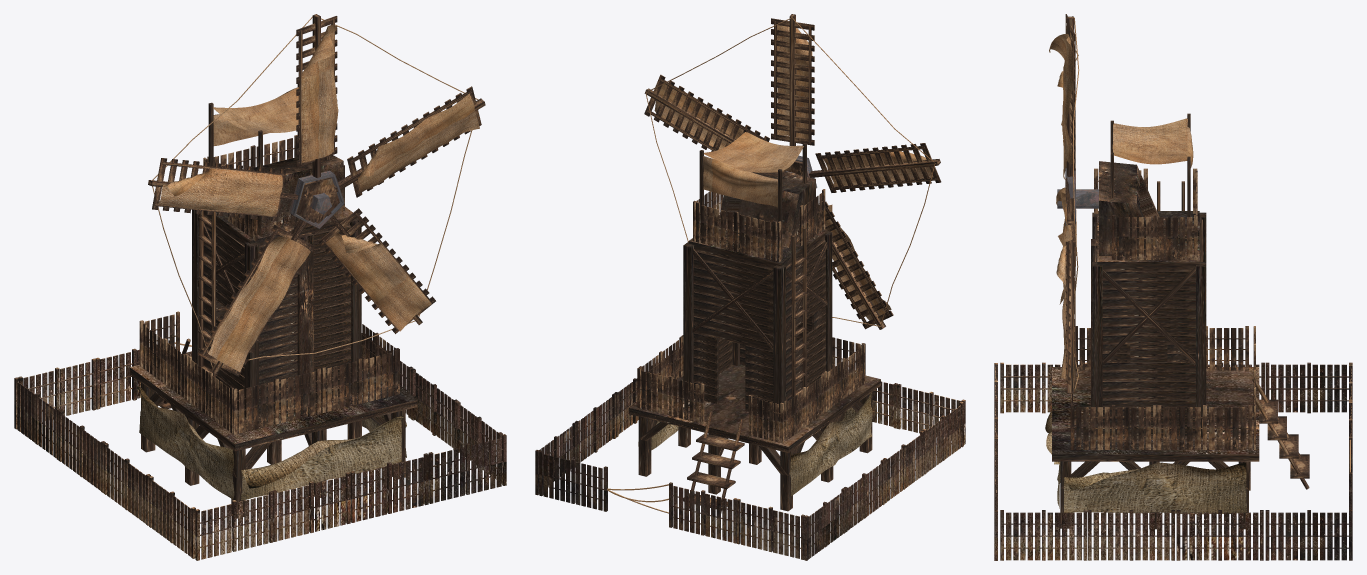
File: wmill.dae
3 views of the same model, side by side, from view 1: azimuth 30°, elevation 25°; view 2: azimuth 150°, elevation 25°; view 3: azimuth 270°, elevation 25° (orthographic). The views are drawn at different scales.
Parts seen in each view (by area): view 1: citler2, citler, duvarlar, ortu, zemin, Plane_3, Plane_4, Plane_2, cati.1, Plane_1, Plane_0, direkler (+11 smaller); view 2: citler2, duvarlar, zemin, citler, cati.1, direkler, ortu2, citler.4, kol_0, merdiven (×2), kol_4, ortu (+8 smaller); view 3: citler2, duvarlar, zemin, citler, ortu, cati.1, direkler, citler.4, ortu2, merdiven, destek, kol_2 (+5 smaller).
Part boxes in pixels (bbox=[...]): citler2: bbox=[14, 333, 506, 560]; citler: bbox=[139, 311, 399, 434]; duvarlar: bbox=[203, 222, 351, 416]; ortu: bbox=[136, 386, 406, 500]; zemin: bbox=[129, 352, 417, 518]; Plane_3: bbox=[208, 237, 310, 371]; Plane_4: bbox=[158, 168, 282, 216]; Plane_2: bbox=[325, 233, 431, 331]; cati.1: bbox=[203, 83, 356, 247]; Plane_1: bbox=[357, 93, 479, 191]; Plane_0: bbox=[301, 24, 338, 162]; direkler: bbox=[192, 209, 361, 419]; citler2: bbox=[535, 348, 965, 560]; duvarlar: bbox=[693, 240, 825, 416]; zemin: bbox=[628, 364, 880, 511]; citler: bbox=[637, 335, 865, 443]; cati.1: bbox=[688, 128, 827, 269]; direkler: bbox=[683, 231, 832, 421]; ortu2: bbox=[703, 132, 803, 207]; citler.4: bbox=[693, 189, 825, 262]; kol_0: bbox=[771, 14, 814, 145]; merdiven (×2): bbox=[683, 227, 807, 519]; kol_4: bbox=[809, 143, 941, 192]; ortu: bbox=[638, 392, 872, 495]; citler2: bbox=[994, 362, 1352, 560]; duvarlar: bbox=[1094, 222, 1201, 436]; zemin: bbox=[1052, 367, 1259, 529]; citler: bbox=[1070, 326, 1255, 450]; ortu: bbox=[1045, 410, 1246, 514]; cati.1: bbox=[1097, 113, 1199, 271]; direkler: bbox=[1092, 212, 1206, 437]; citler.4: bbox=[1094, 168, 1197, 259]; ortu2: bbox=[1112, 118, 1193, 167]; merdiven: bbox=[1252, 378, 1309, 489]; destek: bbox=[1091, 219, 1202, 407]; kol_2: bbox=[1065, 236, 1075, 393].
Bounding box in the file's own units: 1468 × 2007 × 1382.
Materials: 4 (4 with a texture image).
